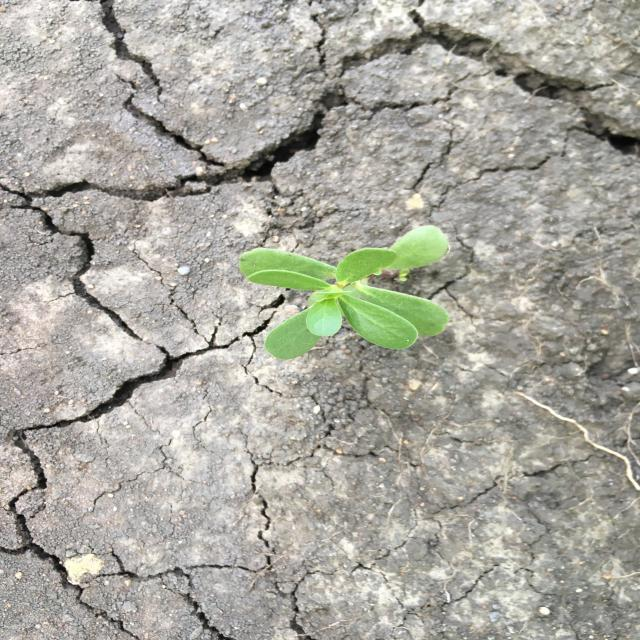Purslane: (234, 223, 456, 365)
